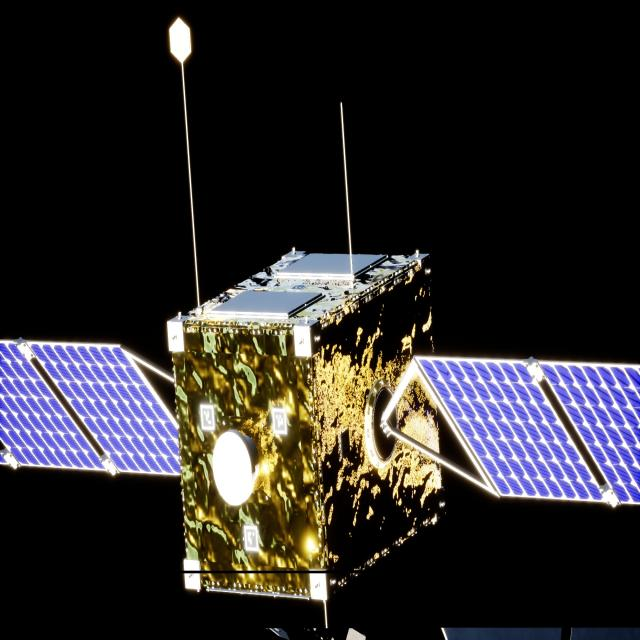satellite: (0, 250, 640, 602)
